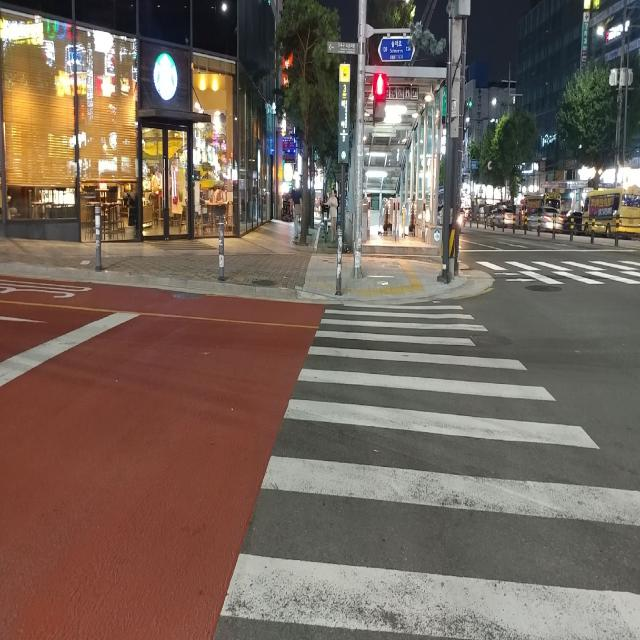빨간불: (374, 73, 386, 123)
횡단보도: (220, 299, 640, 640), (471, 256, 640, 287)
